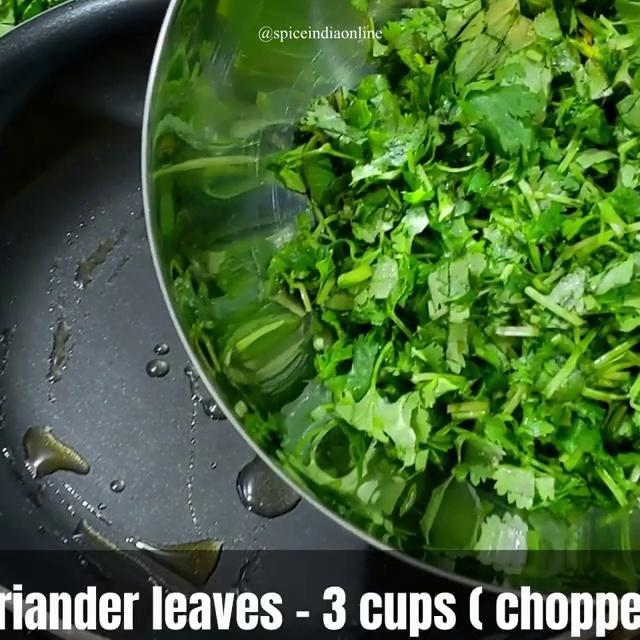cilantro: (373, 0, 640, 442)
